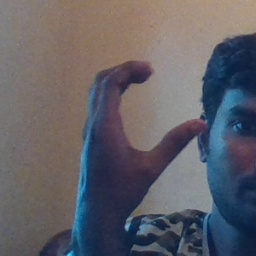C: (88, 54, 209, 176)
